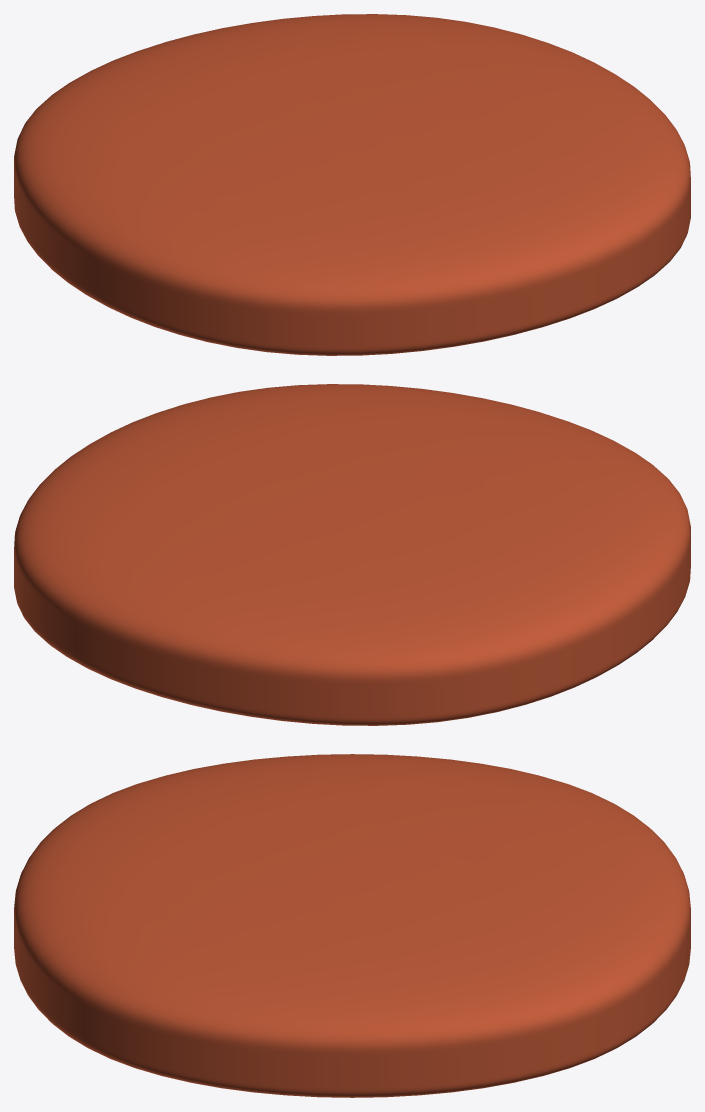
File: burger.glb
3 views of the same model, one above another, from view 1: azimuth 30°, elevation 25°; view 2: azimuth 150°, elevation 25°; view 3: azimuth 270°, elevation 25° (orthographic). The views are drawn at different scales.
Parts seen in each view (by area): view 1: Cube.001; view 2: Cube.001; view 3: Cube.001.
Part boxes in pixels (x1,y1,x2,y2): Cube.001: [14, 14, 690, 355]; Cube.001: [14, 384, 690, 725]; Cube.001: [14, 754, 690, 1097].
Size of the model in its own units: 8.62 by 1.48 by 8.62.
